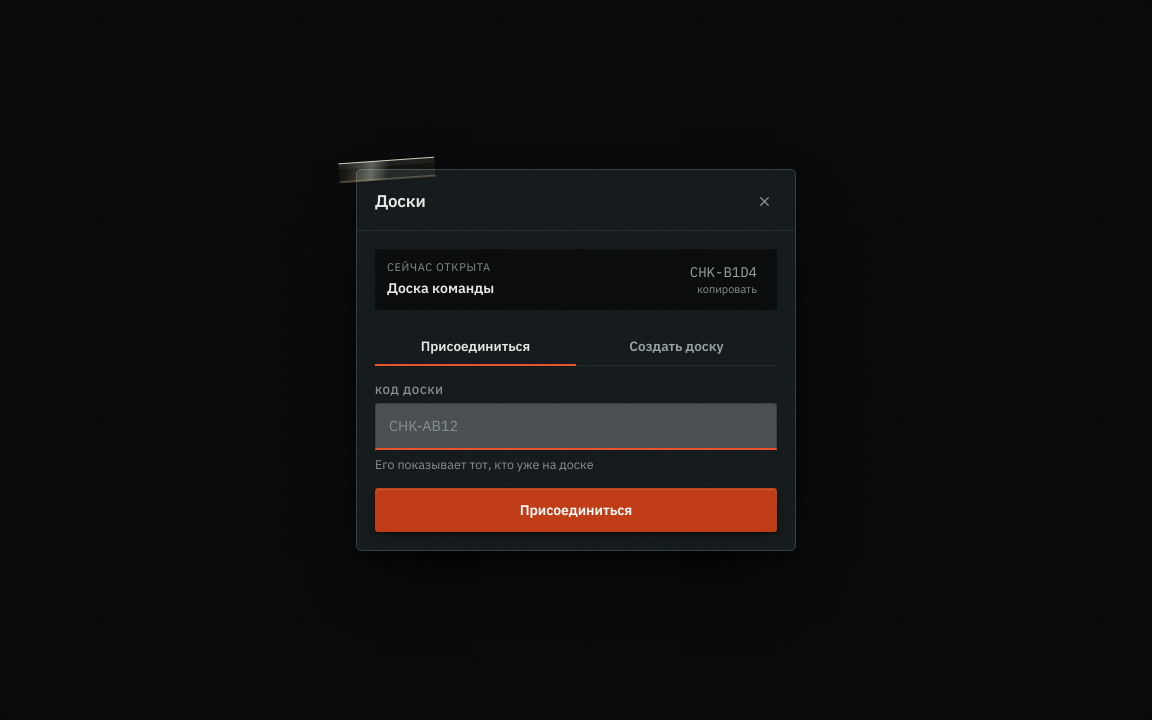
Scenario: BoardModal › creates a board from the second tab and opens it
Click the tab "Создать доску".
click(676, 347)  # box [576, 328, 777, 366]
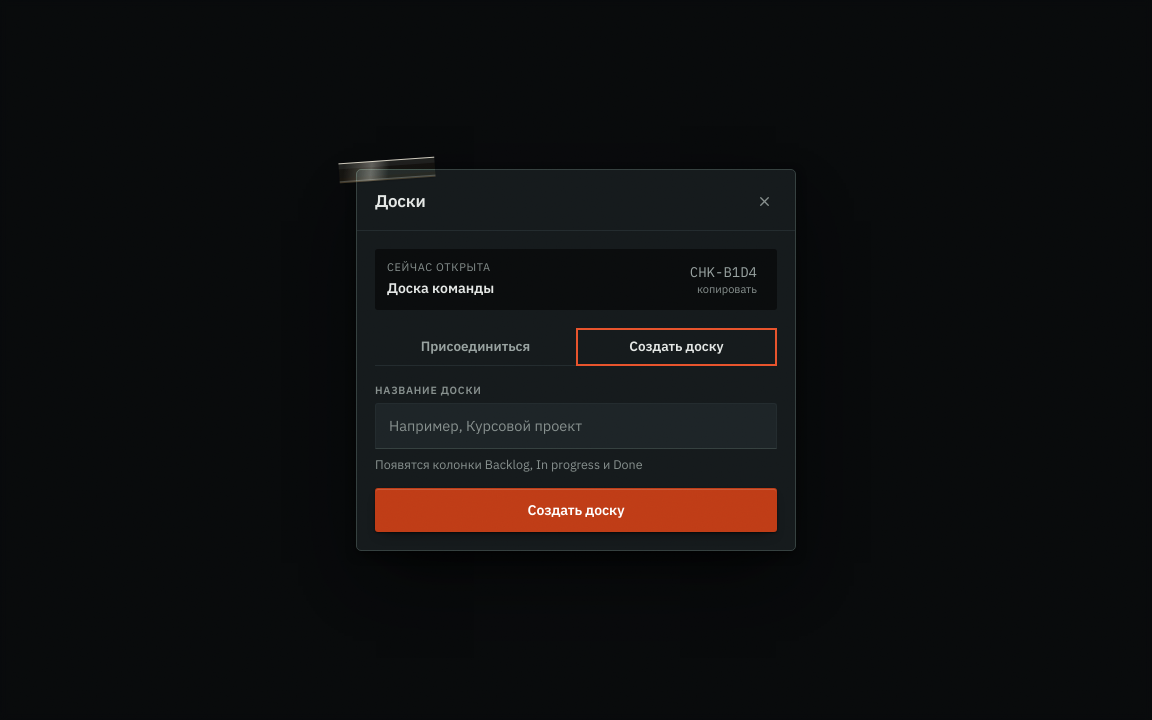
Type "Курсовой проект" into the field labelled "Название доски".
click(576, 426); type("Курсовой проект")  # box [375, 403, 777, 449]
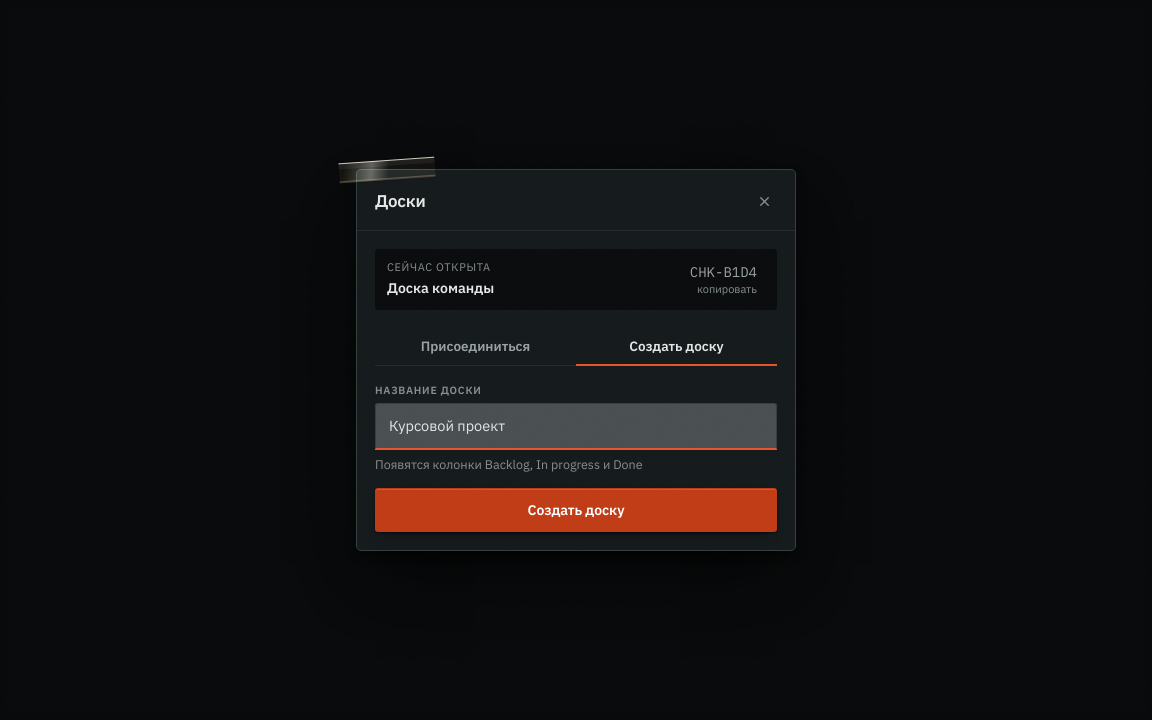
Click the button "Создать доску".
click(576, 510)  # box [375, 488, 777, 532]
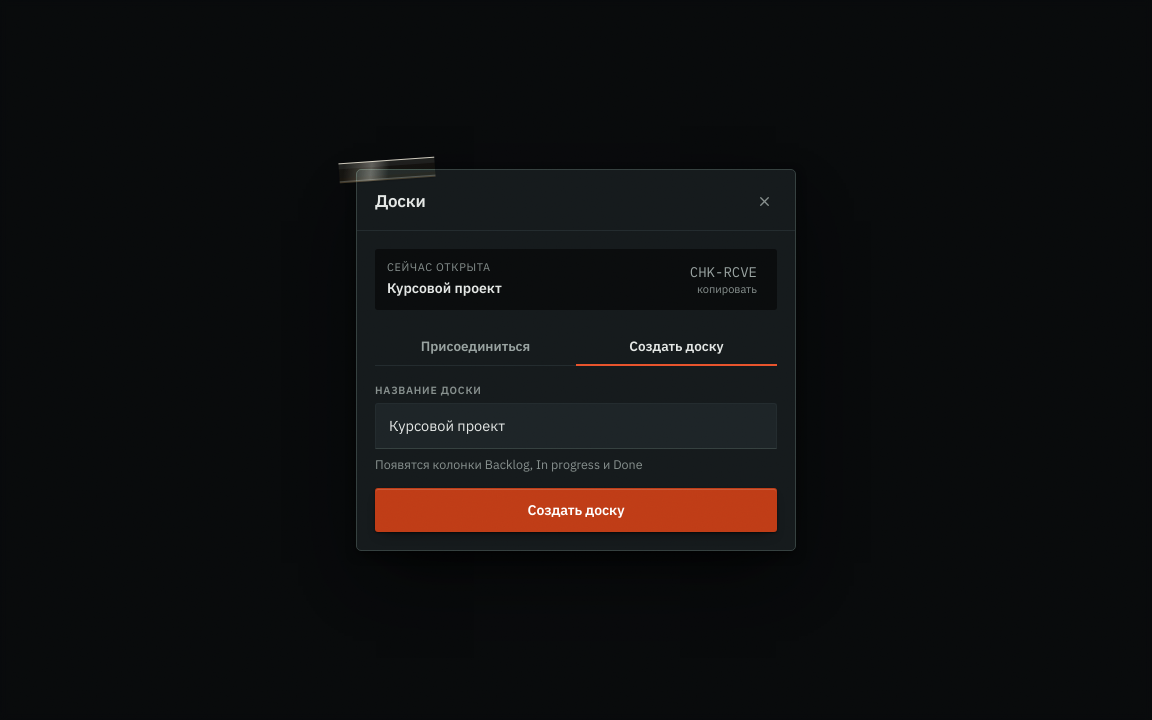
expect the text "Курсовой проект" is shown: met, box [387, 278, 502, 300]
